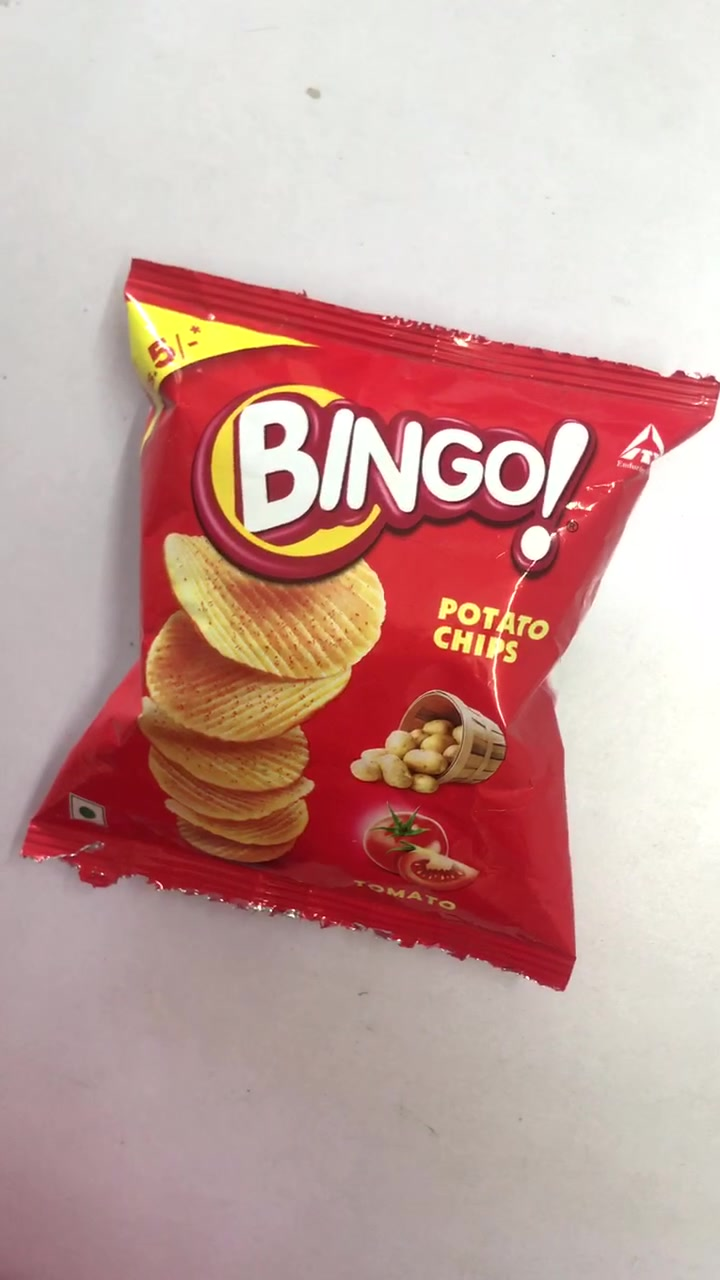Bingo: (21, 266, 713, 991)
